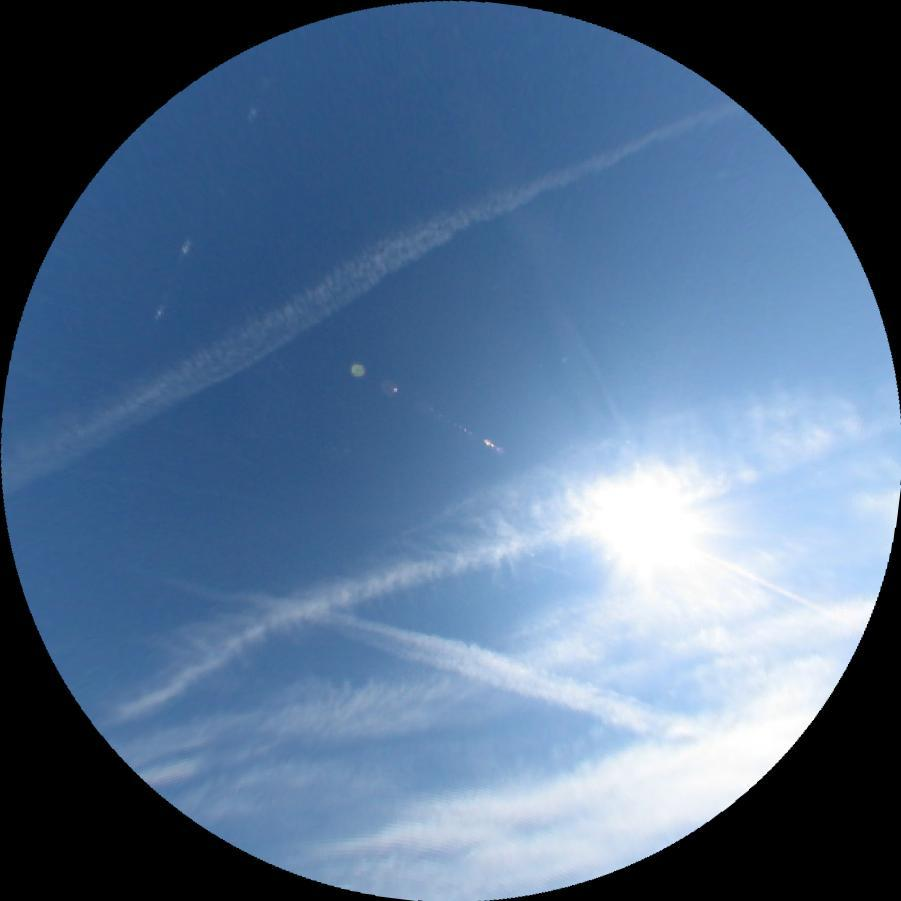contrail veryold: (62, 344, 873, 734), (162, 548, 696, 749)
parasite: (19, 456, 277, 503), (709, 550, 868, 623), (150, 238, 191, 322)
sun: (598, 473, 715, 582)
unknow: (542, 281, 650, 468)
